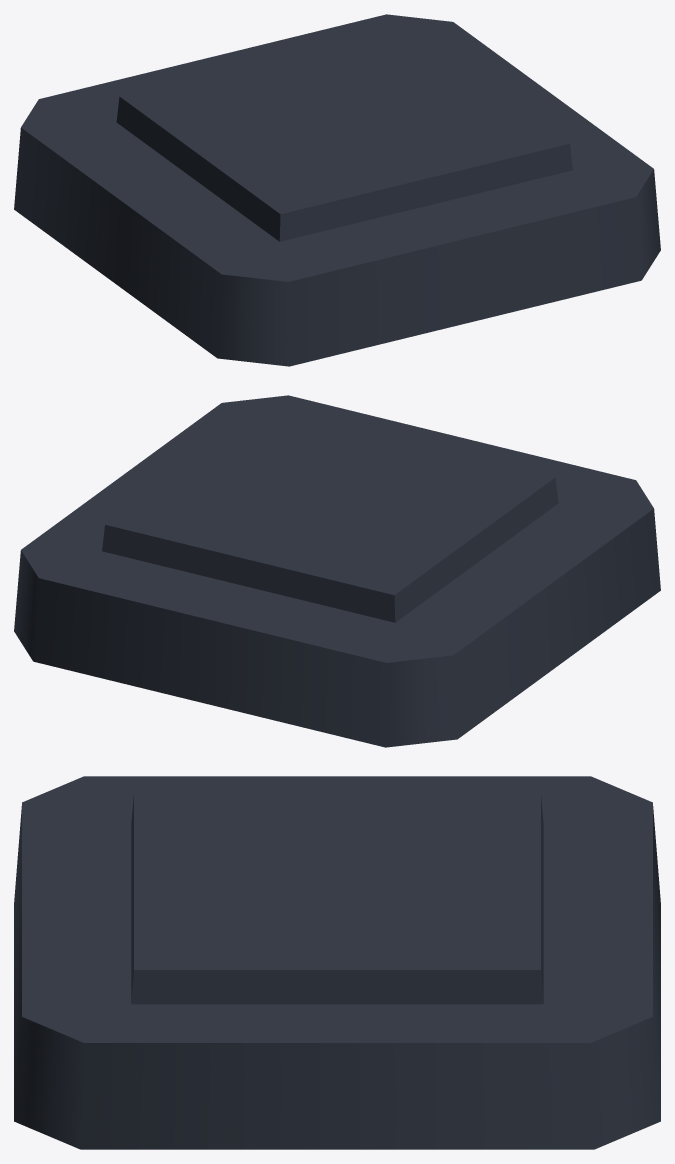
Rendered from Vent_2_A_1.fbx.
The picture shows the model from 3 angles, top to bottom: view 1: azimuth 30°, elevation 25°; view 2: azimuth 150°, elevation 25°; view 3: azimuth 270°, elevation 25°; orthographic projection. The views are drawn at different scales.
Parts seen in each view (by area): view 1: Vent_2_A_1; view 2: Vent_2_A_1; view 3: Vent_2_A_1.
Part boxes in pixels (x1,y1,x2,y2): Vent_2_A_1: [14, 14, 660, 366]; Vent_2_A_1: [14, 395, 660, 747]; Vent_2_A_1: [14, 776, 660, 1149].
Size of the model in its own units: 56.66 by 13.19 by 56.66.
